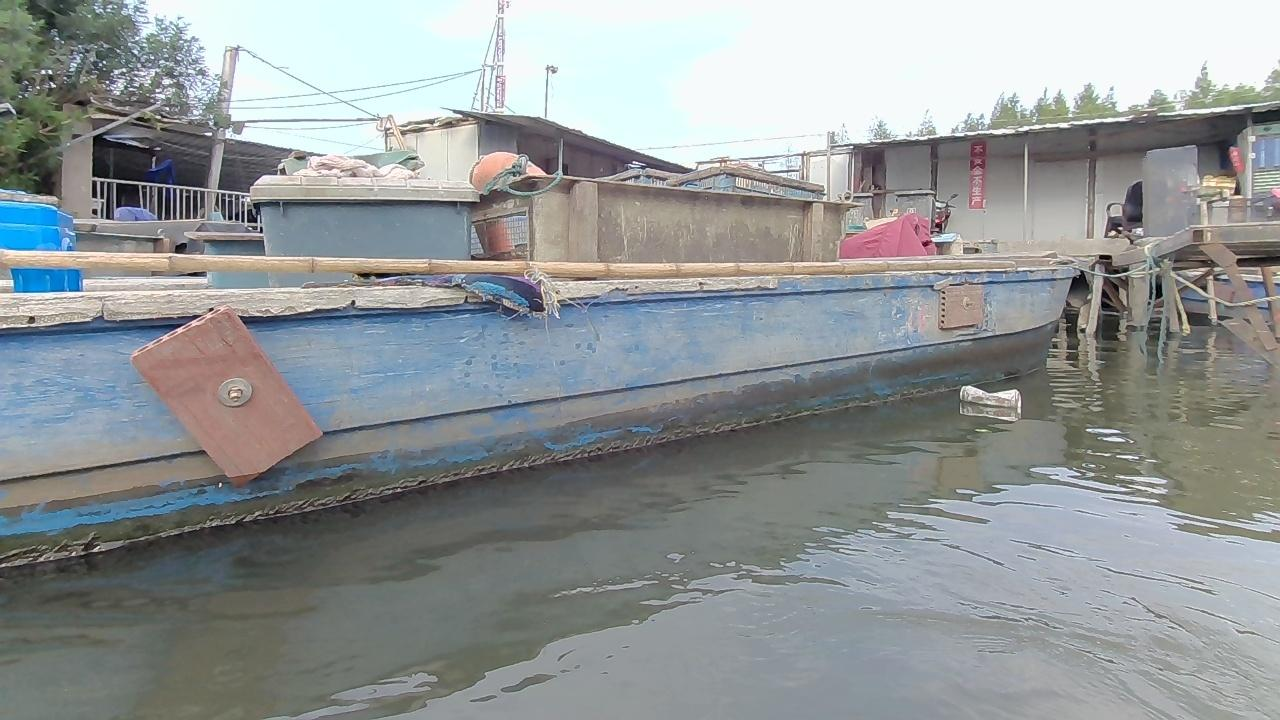bottle: (956, 377, 1024, 419)
